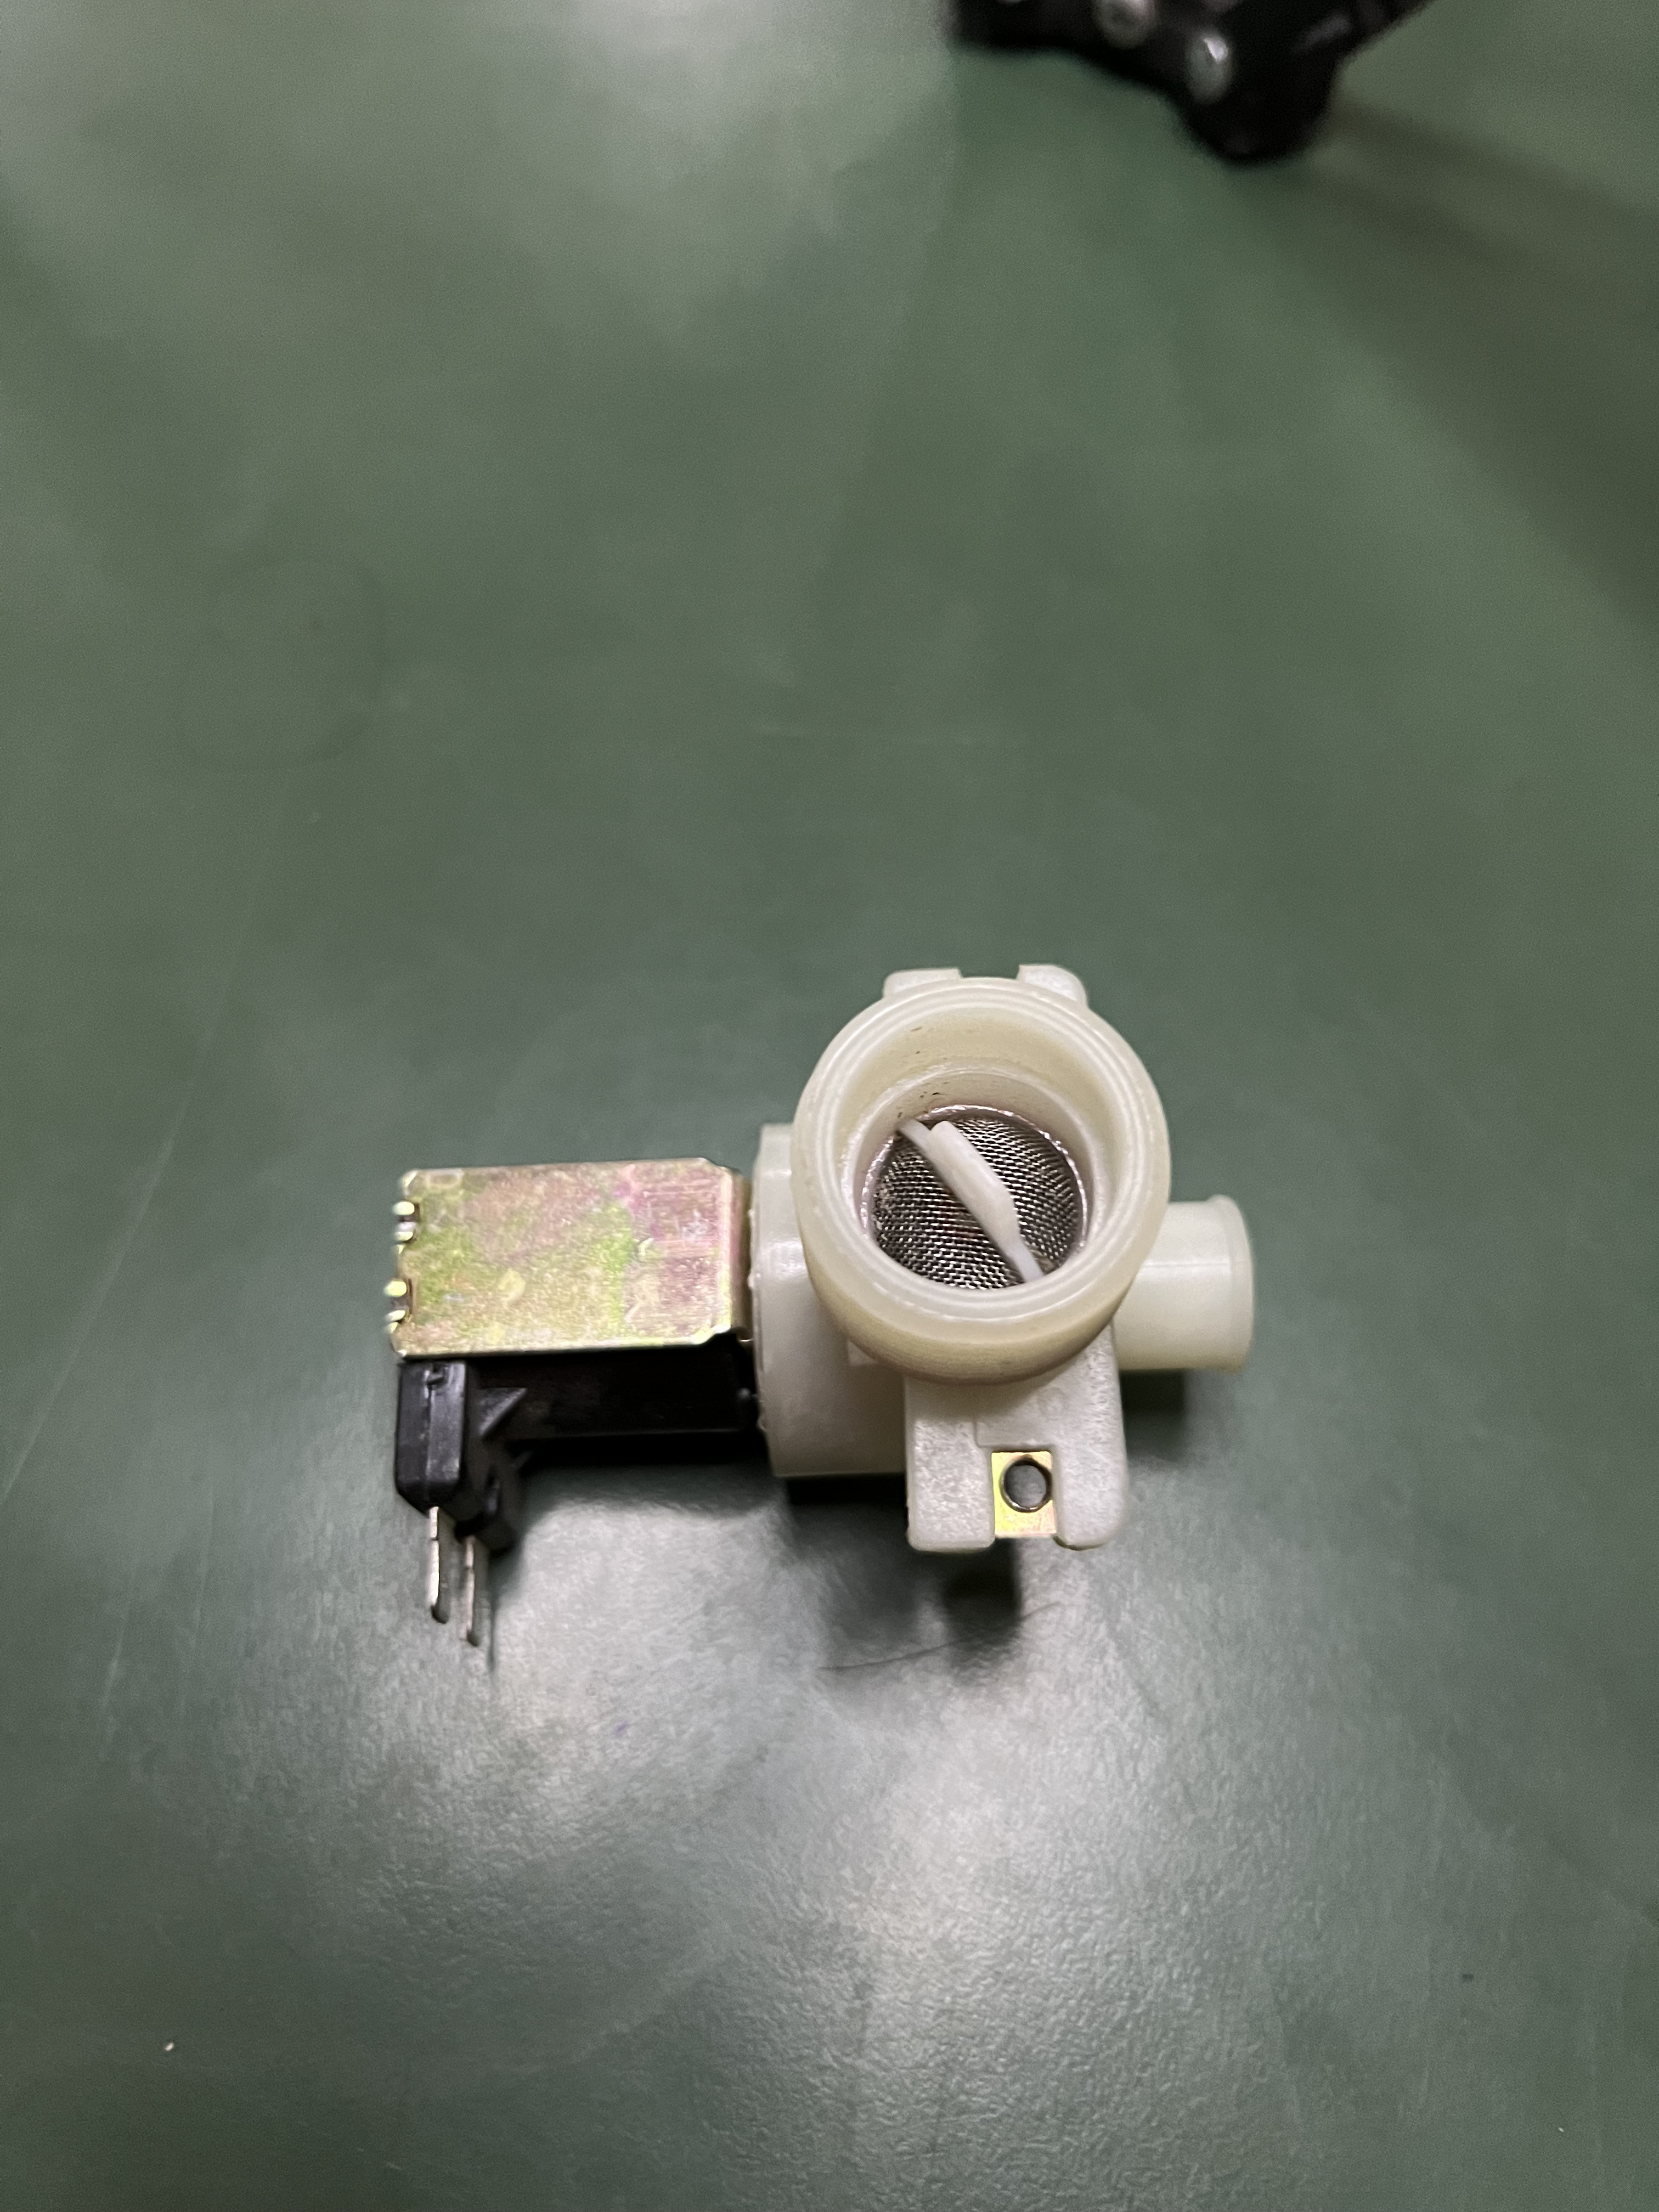godrej_inlet_valves: (289, 953, 1286, 1648)
